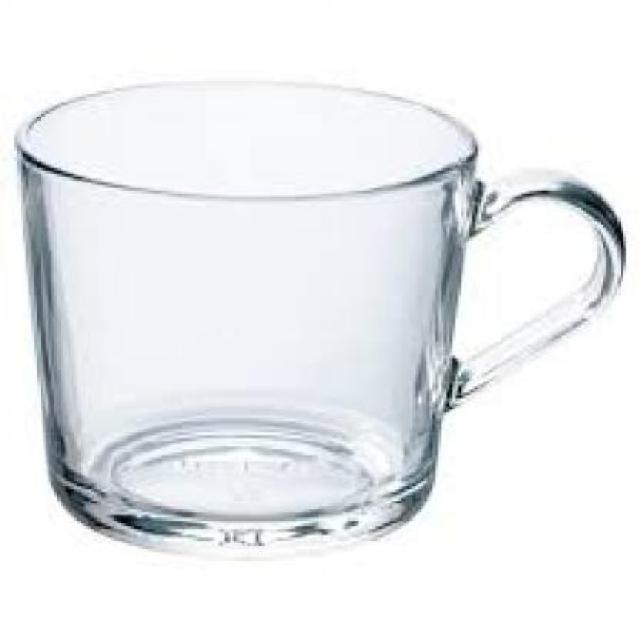kaca: (11, 77, 623, 552)
